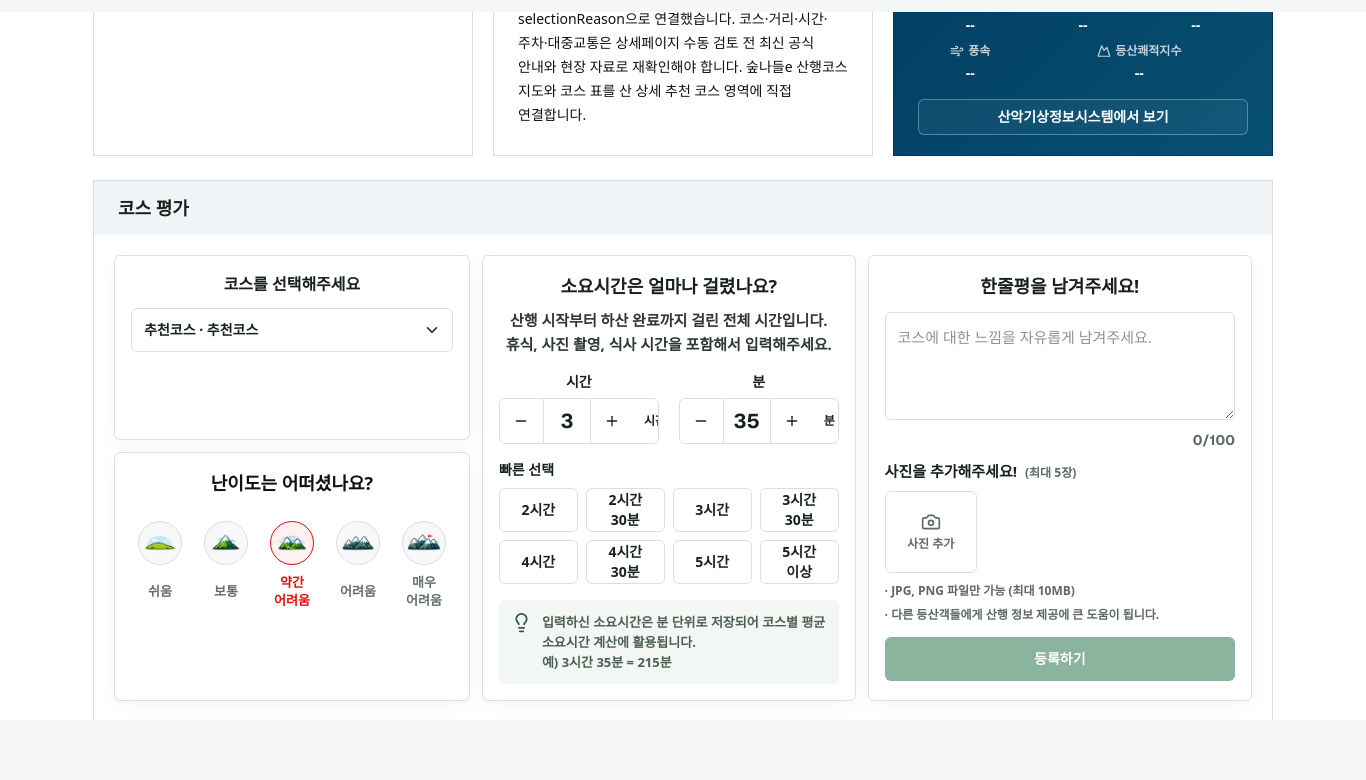
it: MountainDetailPage course feedback › saves reviews to the selected course key
(page scrolled)
Type "길이 잘 정비되어 있어요." into the text box with placeholder "코스에 대한 느낌을 자유롭게 남겨주세요." at (1060,366), box [885,312,1235,420]
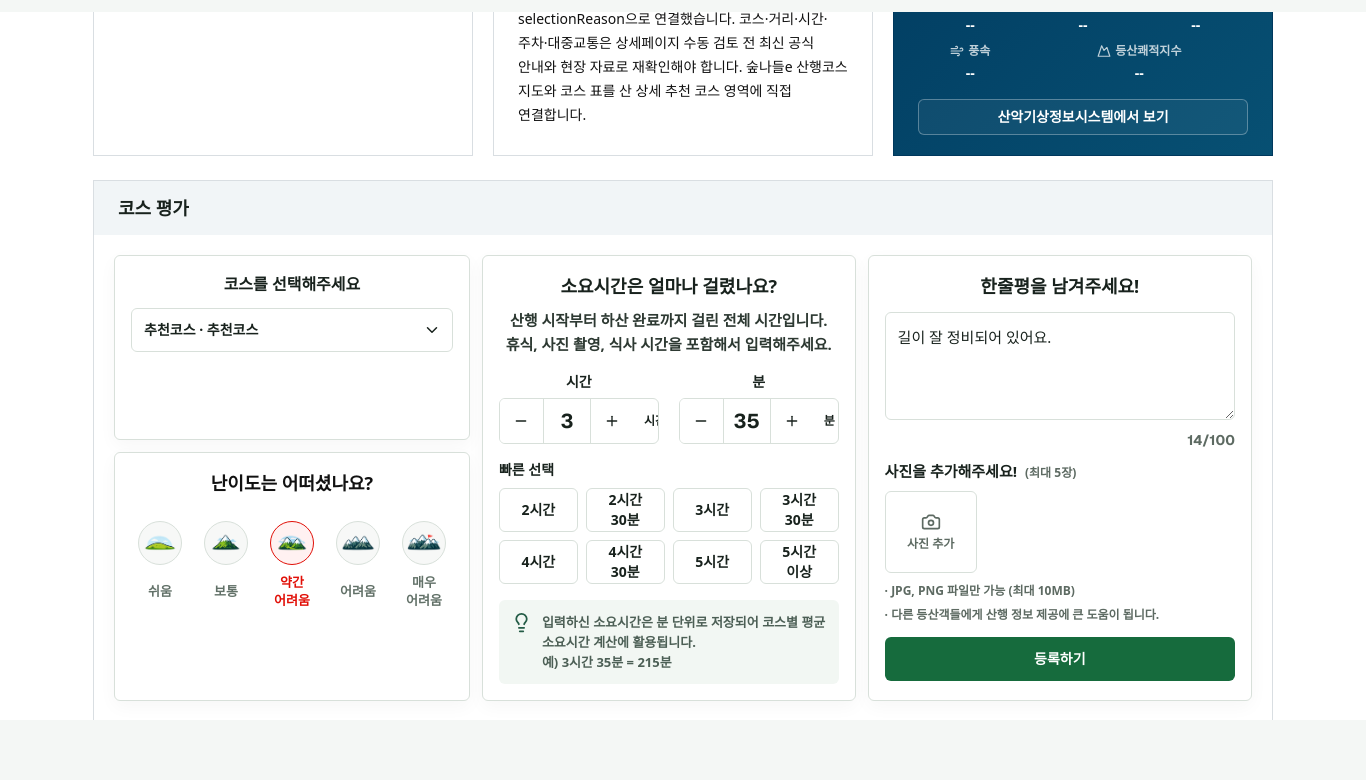
Click the button "등록하기" at (1060,659), box [885,637,1235,681]
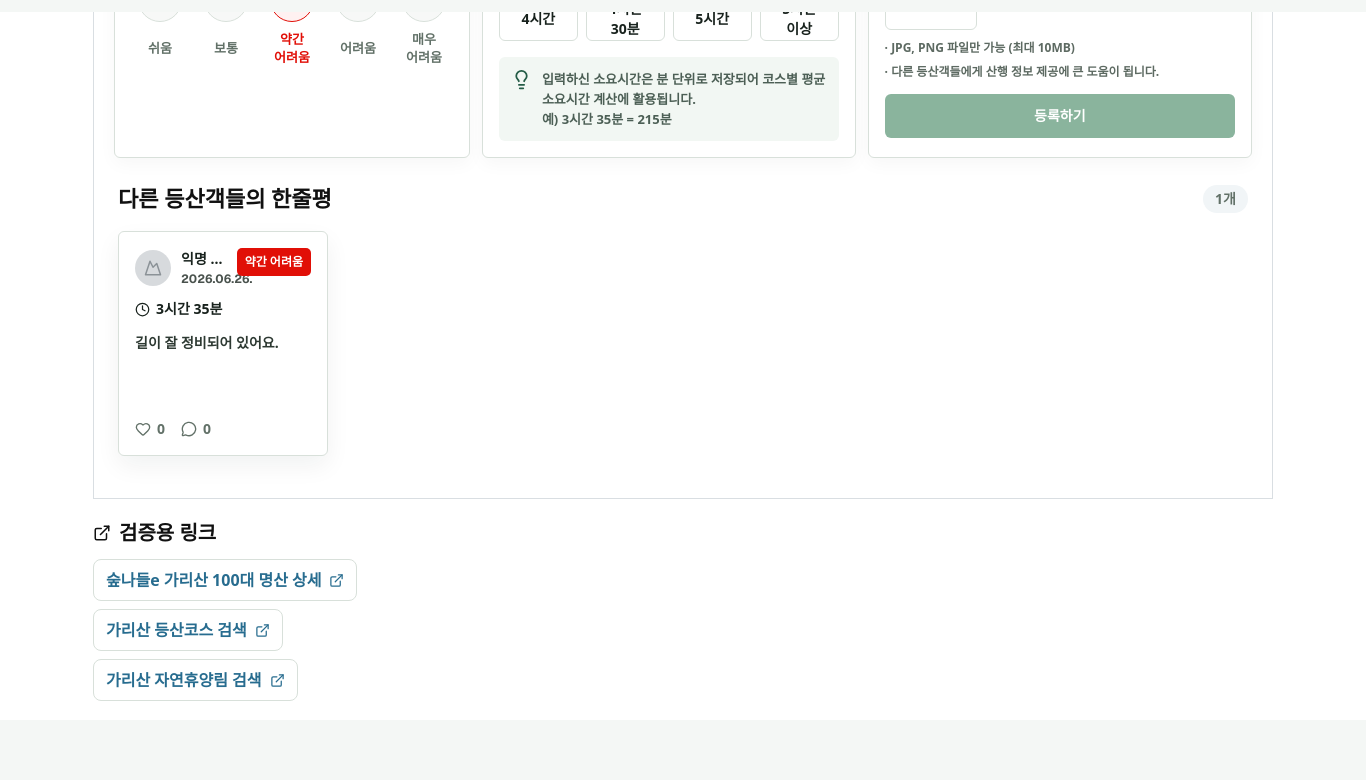
Expected: the text "길이 잘 정비되어 있어요." is shown, [135,333,279,352]
